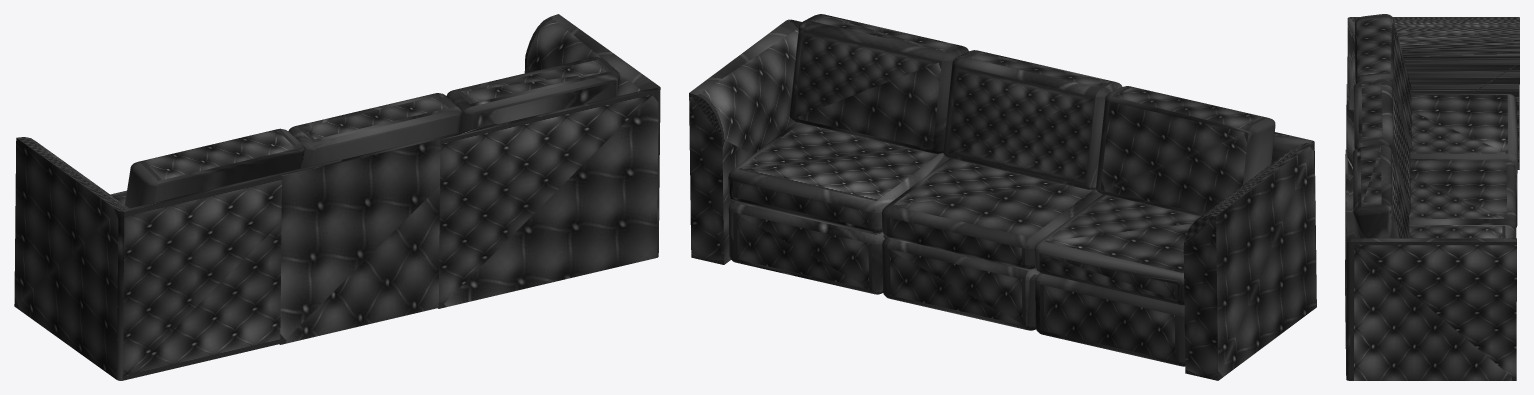
Rendered from sofa3again.glb.
3 renders of one model, left to right at view 1: azimuth 30°, elevation 25°; view 2: azimuth 150°, elevation 25°; view 3: azimuth 270°, elevation 25°, orthographic. The views are drawn at different scales.
Visible parts, largest first — view 1: sofa1; view 2: sofa1; view 3: sofa1.
Boxes of the visible parts, box(x1,y1,x2,y2) form: sofa1: box(14, 14, 660, 380); sofa1: box(689, 14, 1316, 380); sofa1: box(1345, 14, 1519, 380).
Bounding box in the file's own units: 2.47 × 0.8602 × 0.8266.
Materials: 1 (1 with a texture image).
